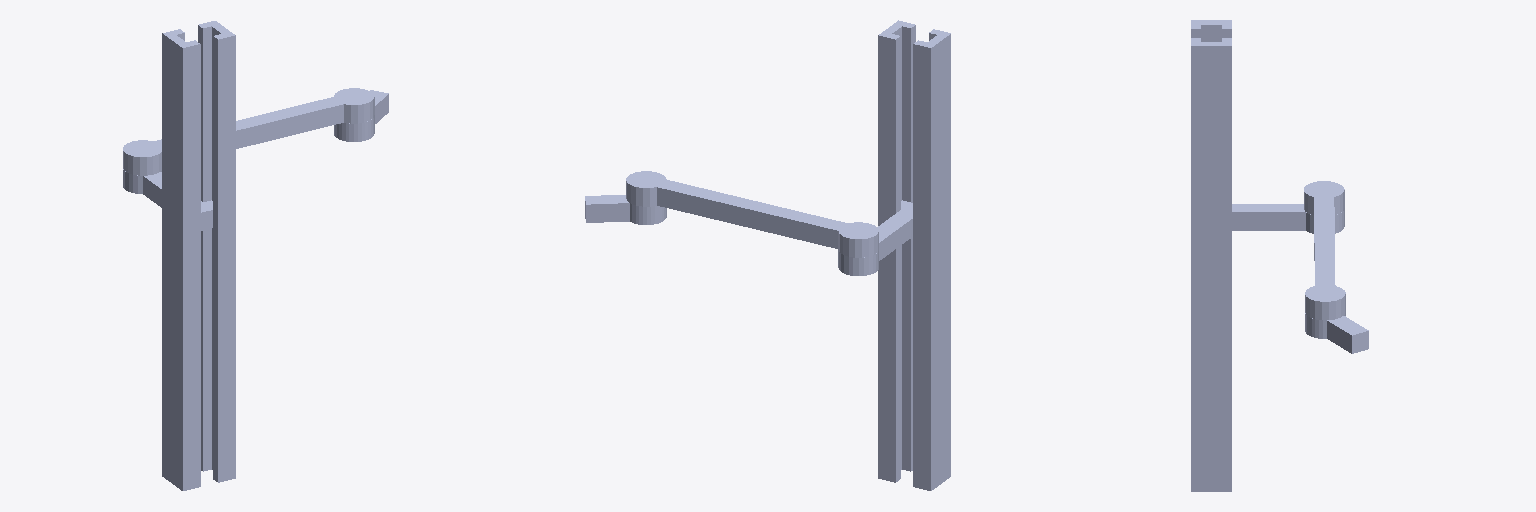
robot.urdf — lift_arm:
<?xml version="1.0" encoding="utf-8"?>
<!-- This URDF was automatically created by SolidWorks to URDF Exporter! Originally created by [author] ([email redacted]) 
     Commit Version: 1.5.1-0-g916b5db  Build Version: 1.5.7152.31018
     For more information, please see http://wiki.ros.org/sw_urdf_exporter -->
<robot
  name="lift_arm">
  <link
    name="base_link">
    <inertial>
      <origin
        xyz="-0.065259797102561 0.203202246268845 -0.249961532467723"
        rpy="0 0 0" />
      <mass
        value="1.179868608" />
      <inertia
        ixx="0.0368549618408966"
        ixy="2.92358447473642E-20"
        ixz="-1.19668108927298E-19"
        iyy="0.0365959410247457"
        iyz="-2.13747907385528E-18"
        izz="0.00037531587646352" />
    </inertial>
    <visual>
      <origin
        xyz="0 0 0"
        rpy="0 0 0" />
      <geometry>
        <mesh
          filename="package://lift_arm/meshes/base_link.STL" />
      </geometry>
      <material
        name="">
        <color
          rgba="0.792156862745098 0.819607843137255 0.933333333333333 1" />
      </material>
    </visual>
    <collision>
      <origin
        xyz="0 0 0"
        rpy="0 0 0" />
      <geometry>
        <mesh
          filename="package://lift_arm/meshes/base_link.STL" />
      </geometry>
    </collision>
  </link>
  <link
    name="linear_link">
    <inertial>
      <origin
        xyz="0.0254 -0.0127 -0.0827229300254183"
        rpy="0 0 0" />
      <mass
        value="0.137644504402458" />
      <inertia
        ixx="0.000425731058333742"
        ixy="1.27233718206023E-21"
        ixz="-5.36223898327071E-22"
        iyy="0.000436756948115229"
        iyz="9.75771582907356E-22"
        izz="2.58263445248687E-05" />
    </inertial>
    <visual>
      <origin
        xyz="0 0 0"
        rpy="0 0 0" />
      <geometry>
        <mesh
          filename="package://lift_arm/meshes/linear_link.STL" />
      </geometry>
      <material
        name="">
        <color
          rgba="0.792156862745098 0.819607843137255 0.933333333333333 1" />
      </material>
    </visual>
    <collision>
      <origin
        xyz="0 0 0"
        rpy="0 0 0" />
      <geometry>
        <mesh
          filename="package://lift_arm/meshes/linear_link.STL" />
      </geometry>
    </collision>
  </link>
  <joint
    name="linear_joint"
    type="prismatic">
    <origin
      xyz="-0.0906597971025609 0.190502246268845 -0.184354473542594"
      rpy="1.5707963267949 0 0" />
    <parent
      link="base_link" />
    <child
      link="linear_link" />
    <axis
      xyz="0 1 0" />
    <limit
      lower="0"
      upper="0"
      effort="0"
      velocity="0" />
  </joint>
  <link
    name="rotation_link_1">
    <inertial>
      <origin
        xyz="-0.1524 0.0104761126263124 3.33066907387547E-16"
        rpy="0 0 0" />
      <mass
        value="0.293996360681221" />
      <inertia
        ixx="5.7552881350584E-05"
        ixy="-2.9124508778059E-19"
        ixz="8.3470332391583E-18"
        iyy="0.00393780518425589"
        iyz="-7.40244737538535E-21"
        izz="0.00394217052220637" />
    </inertial>
    <visual>
      <origin
        xyz="0 0 0"
        rpy="0 0 0" />
      <geometry>
        <mesh
          filename="package://lift_arm/meshes/rotation_link_1.STL" />
      </geometry>
      <material
        name="">
        <color
          rgba="0.792156862745098 0.819607843137255 0.933333333333333 1" />
      </material>
    </visual>
    <collision>
      <origin
        xyz="0 0 0"
        rpy="0 0 0" />
      <geometry>
        <mesh
          filename="package://lift_arm/meshes/rotation_link_1.STL" />
      </geometry>
    </collision>
  </link>
  <joint
    name="rotation_joint_1"
    type="continuous">
    <origin
      xyz="0.0253999999999999 0 -0.1524"
      rpy="3.14159265358979 -0.00540938599402059 3.14159265358979" />
    <parent
      link="linear_link" />
    <child
      link="rotation_link_1" />
    <axis
      xyz="0 1 0" />
  </joint>
  <link
    name="rotation_link_2">
    <inertial>
      <origin
        xyz="-2.77555756156289E-17 -0.0126999999999999 -0.0233336507202963"
        rpy="0 0 0" />
      <mass
        value="0.0720962484024577" />
      <inertia
        ixx="6.44570191483337E-05"
        ixy="8.27429190975541E-22"
        ixz="2.96461531539005E-21"
        iyy="7.01967698247007E-05"
        iyz="2.23317968021953E-21"
        izz="1.34920199462554E-05" />
    </inertial>
    <visual>
      <origin
        xyz="0 0 0"
        rpy="0 0 0" />
      <geometry>
        <mesh
          filename="package://lift_arm/meshes/rotation_link_2.STL" />
      </geometry>
      <material
        name="">
        <color
          rgba="0.792156862745098 0.819607843137255 0.933333333333333 1" />
      </material>
    </visual>
    <collision>
      <origin
        xyz="0 0 0"
        rpy="0 0 0" />
      <geometry>
        <mesh
          filename="package://lift_arm/meshes/rotation_link_2.STL" />
      </geometry>
    </collision>
  </link>
  <joint
    name="rotation_joint_2"
    type="continuous">
    <origin
      xyz="-0.3048 0 0"
      rpy="3.14159265358979 0.965542419827105 3.14159265358979" />
    <parent
      link="rotation_link_1" />
    <child
      link="rotation_link_2" />
    <axis
      xyz="0 1 0" />
  </joint>
</robot>

--- Facts derived from the render (not from the file) ---
3 views of the same robot in one strip: view 1: azimuth 30°, elevation 25°; view 2: azimuth 150°, elevation 25°; view 3: azimuth 270°, elevation 25° (orthographic).
Model lift_arm with 4 links and 3 joints (2 continuous, 1 prismatic), rooted at base_link, posed all joints at 0.
Visible links, largest first — view 1: base_link, rotation_link_1, linear_link, rotation_link_2; view 2: base_link, rotation_link_1, linear_link, rotation_link_2; view 3: base_link, rotation_link_1, linear_link, rotation_link_2.
Boxes of the visible links, x1=… form: base_link: x1=162, y1=21, x2=235, y2=490; rotation_link_1: x1=123, y1=88, x2=374, y2=175; linear_link: x1=123, y1=169, x2=212, y2=230; rotation_link_2: x1=334, y1=90, x2=388, y2=141; base_link: x1=878, y1=20, x2=950, y2=490; rotation_link_1: x1=626, y1=171, x2=878, y2=257; linear_link: x1=838, y1=200, x2=912, y2=275; rotation_link_2: x1=585, y1=195, x2=666, y2=224; base_link: x1=1191, y1=20, x2=1231, y2=491; rotation_link_1: x1=1304, y1=181, x2=1345, y2=319; linear_link: x1=1232, y1=204, x2=1344, y2=233; rotation_link_2: x1=1305, y1=313, x2=1368, y2=353.
Bounding box of the posed robot: 0.4126 × 0.2208 × 0.6096 m (x, y, z).
Meshes: 4 distinct files referenced, 4 mesh visuals loaded (4 binary STL).